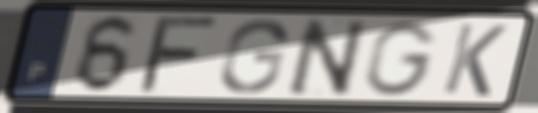6: (72, 13, 140, 95)
F: (133, 14, 225, 96)
G: (362, 19, 442, 98), (216, 17, 291, 96)
K: (439, 20, 511, 99)
N: (286, 16, 371, 98)
